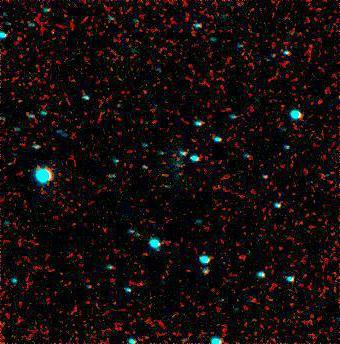star: (151, 160, 181, 190)
